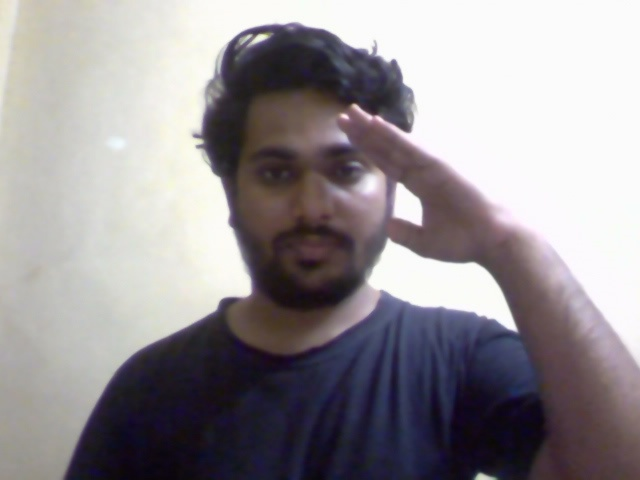hello: (181, 15, 502, 310)
